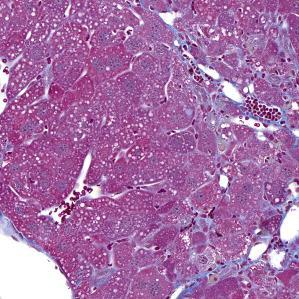fibrosis: (192, 65, 286, 148)
